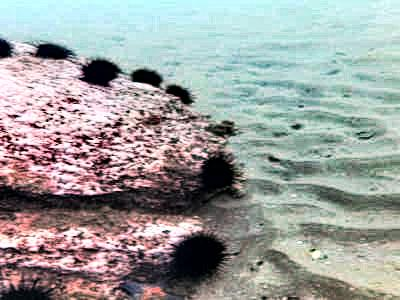urchin: (163, 231, 225, 282), (199, 156, 232, 189), (80, 58, 116, 85), (163, 83, 190, 105), (37, 43, 72, 59), (132, 68, 161, 87), (1, 36, 12, 59)
